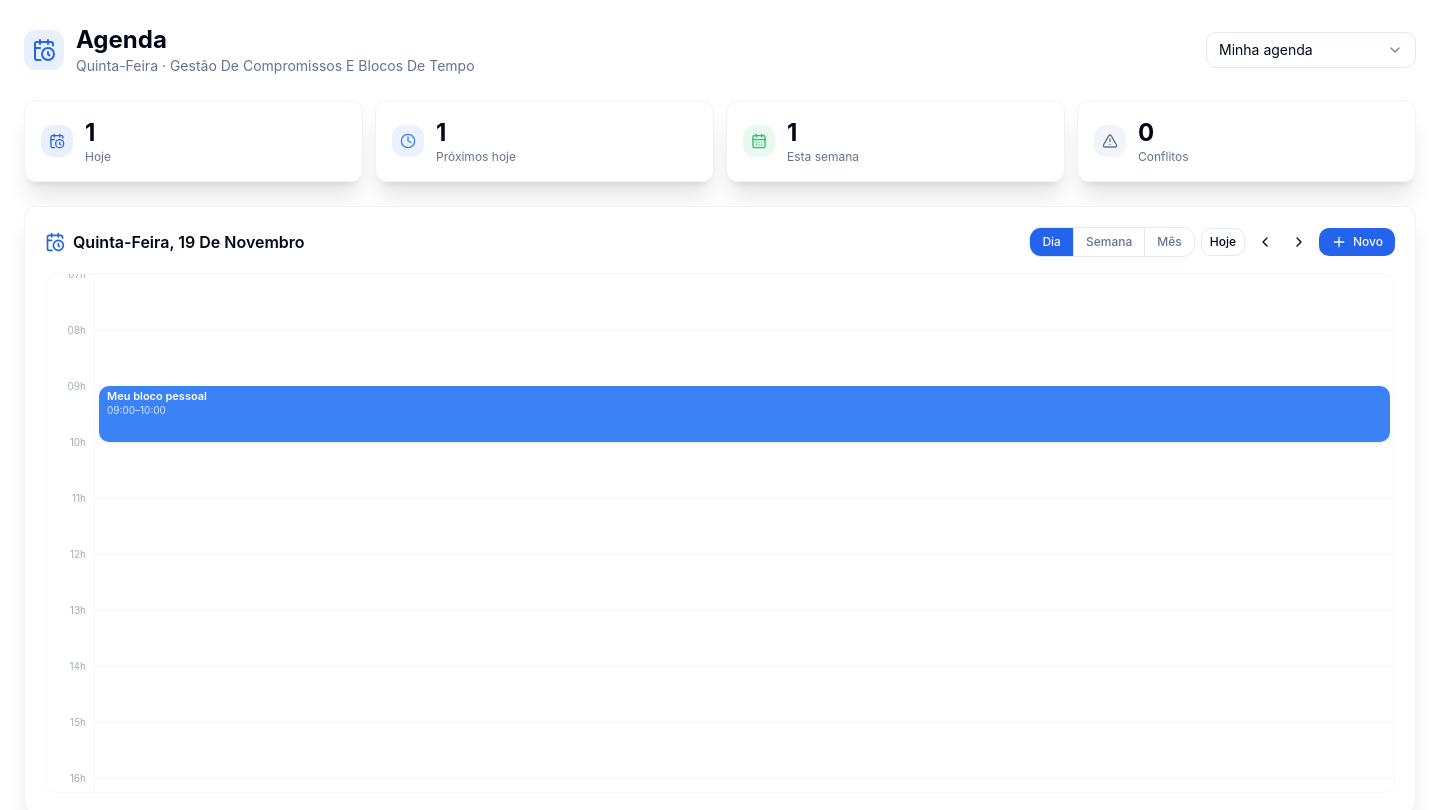
Scenario: AgendaPage — conflict badge (AVAIL-10) › marks the appointment that overlaps declared unavailability, and only that one
The image size is (1440, 810).
Step 1. Press the mouse on the dropdown named "Colaborador" → (1311, 50), box [1206,32,1416,68]
Step 2. Click the dropdown named "Colaborador" → click(1311, 50), box [1206,32,1416,68]
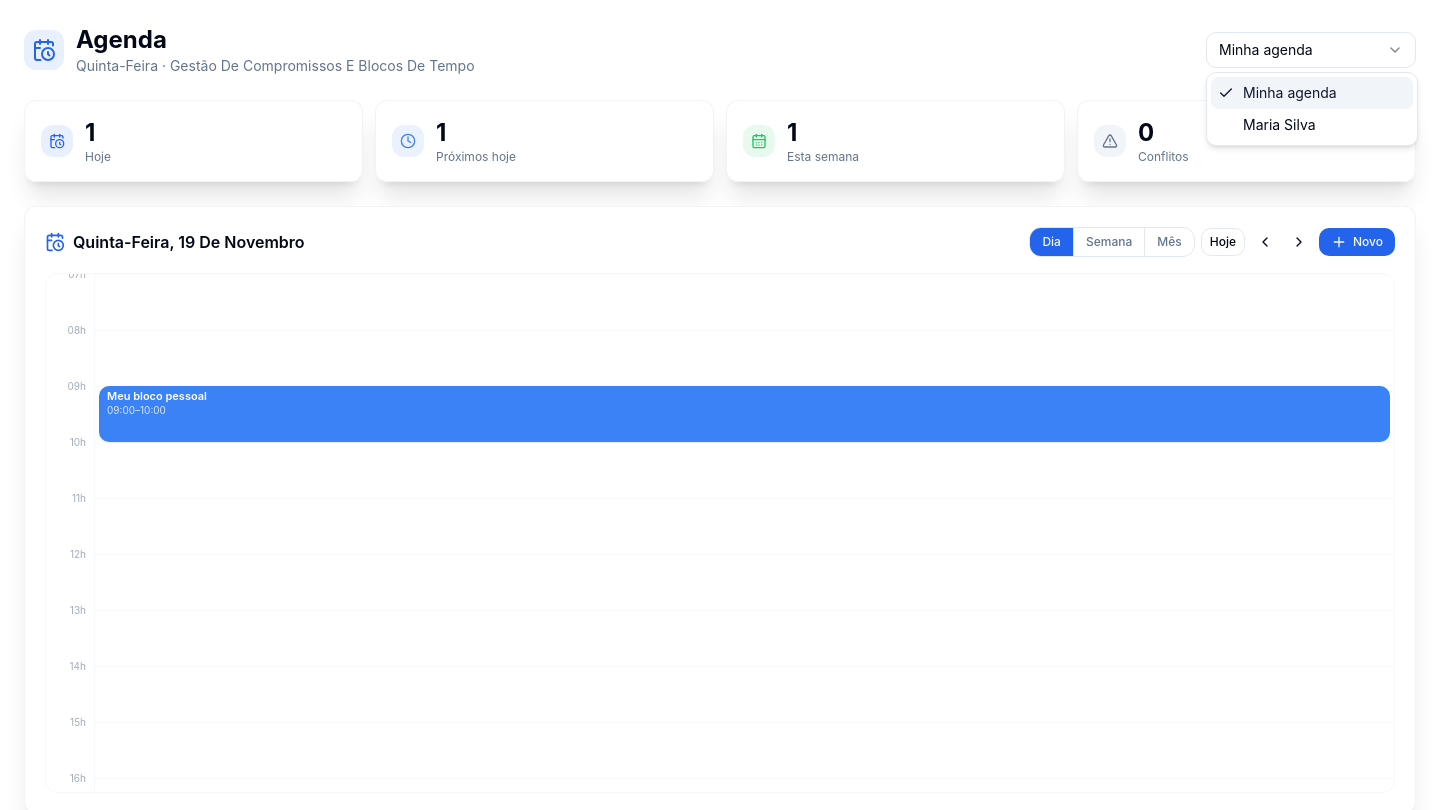
Step 3. Click the option "Maria Silva" → click(1279, 124), box [1243,116,1316,133]
(page scrolled)
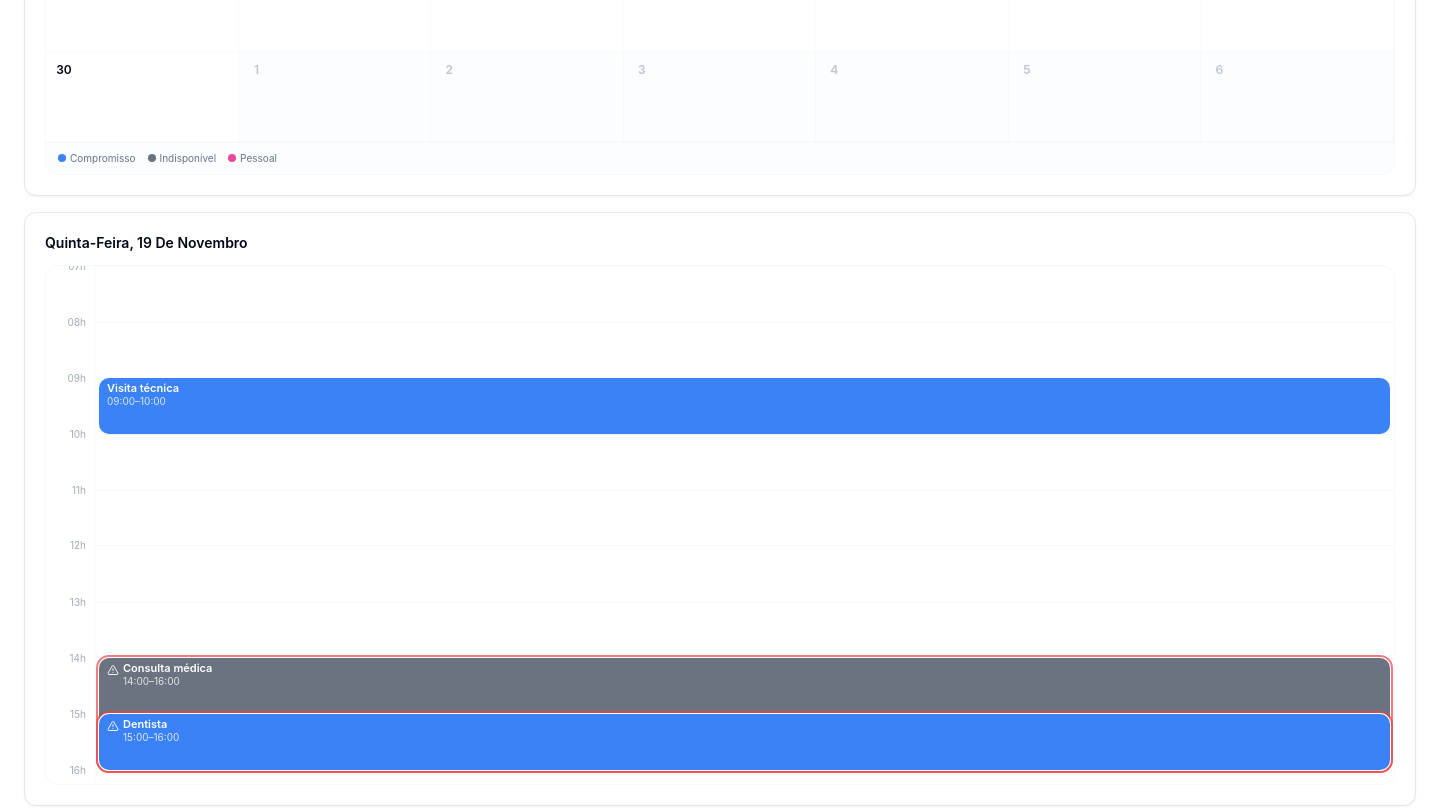
expect the 2nd icon is shown: met, box [107,720,119,732]
expect the element showing "Dentista 15:00–16:00" is shown: met, box [99,714,1390,770]
expect the element showing "Visita técnica 09:00–10:00" is shown: met, box [99,378,1390,434]
